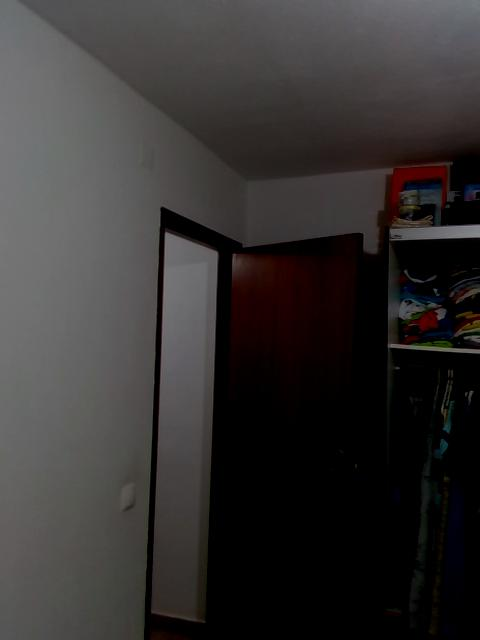open_door: (144, 203, 244, 639)
